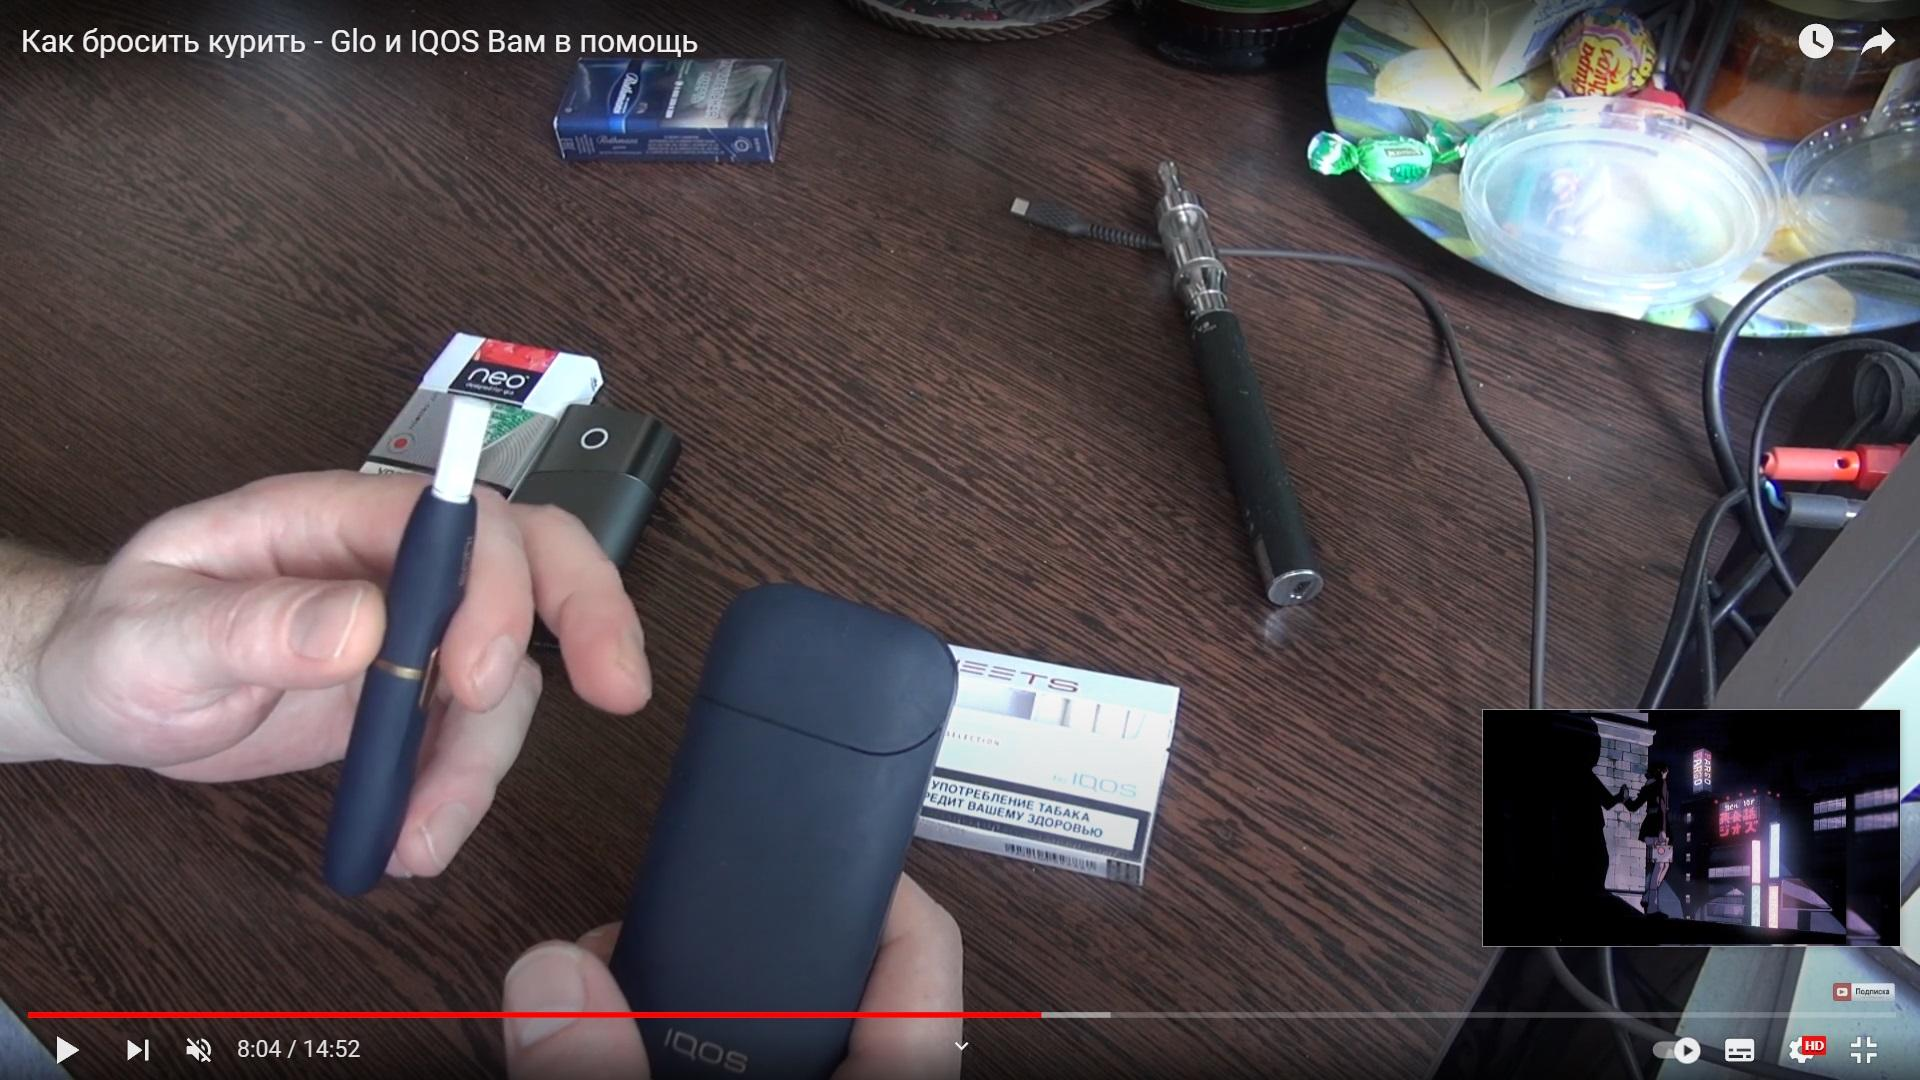Vape: (1156, 162, 1323, 608)
iqos: (324, 394, 506, 895)
